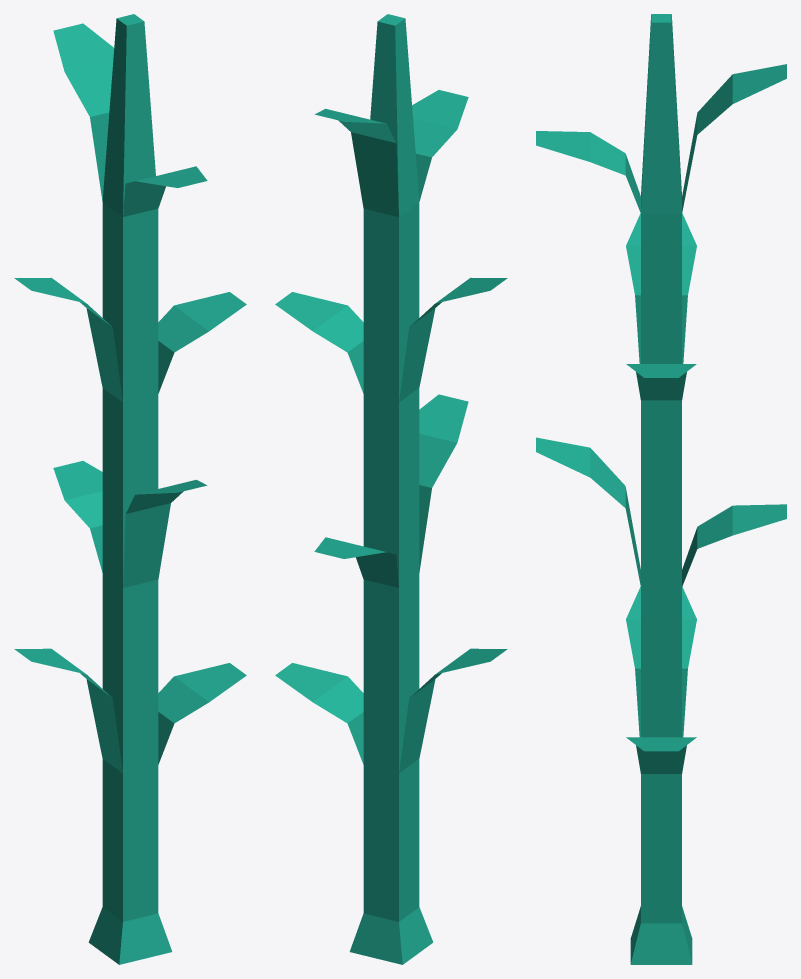
File: crops_cornStageC.glb
The picture shows the model from 3 angles, left to right: view 1: azimuth 30°, elevation 25°; view 2: azimuth 150°, elevation 25°; view 3: azimuth 270°, elevation 25°; orthographic projection.
Parts seen in each view (by area): view 1: crops_cornStageC; view 2: crops_cornStageC; view 3: crops_cornStageC.
Boxes of the visible parts, left/top/right/bottom form: crops_cornStageC: left=14, top=14, right=246, bottom=964; crops_cornStageC: left=275, top=14, right=507, bottom=964; crops_cornStageC: left=536, top=14, right=786, bottom=964.
Size of the model in its own units: 0.365 by 1.5 by 0.365.
